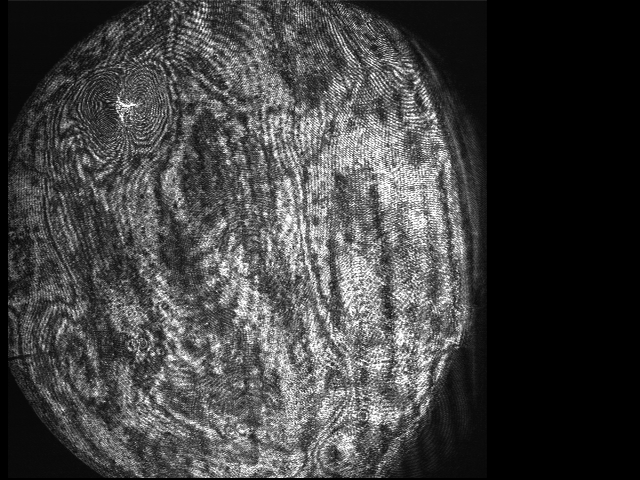plume: (77, 59, 173, 170)
